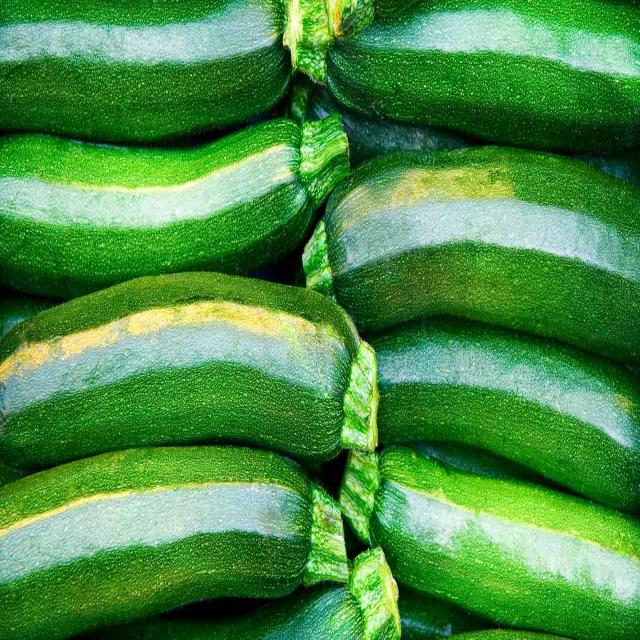Zucchini: (0, 110, 370, 291)
